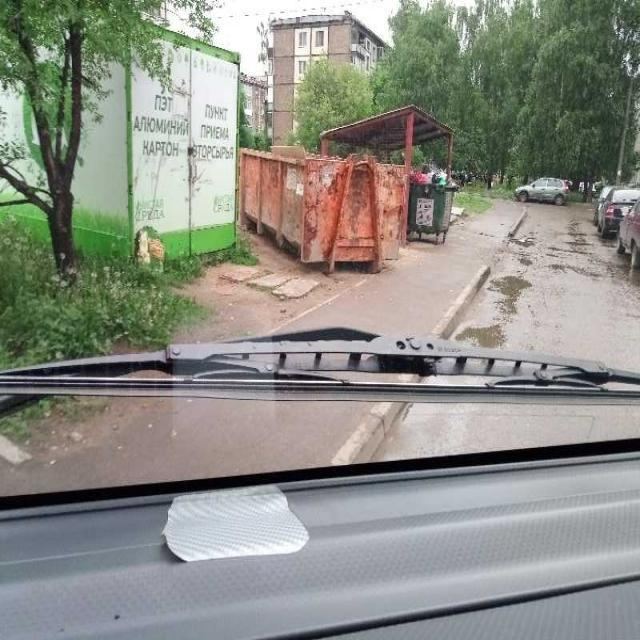Dumpster: (238, 148, 399, 261), (407, 177, 455, 244)
